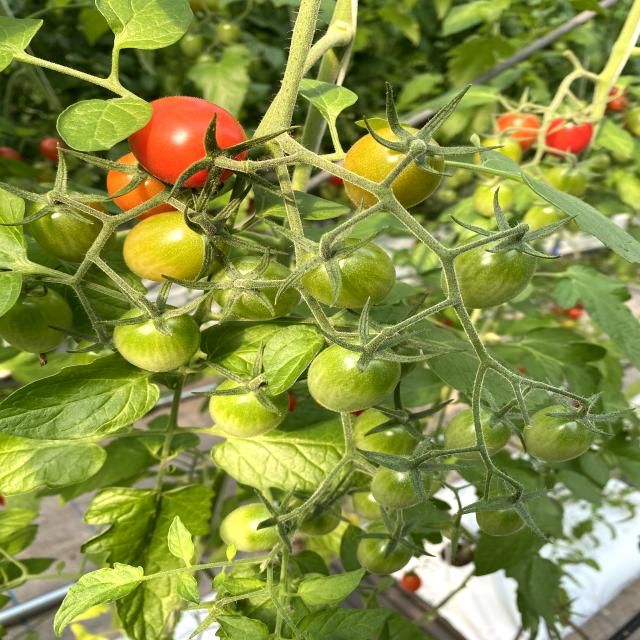ripe0: (342, 126, 446, 209), (307, 337, 403, 412), (299, 238, 396, 309), (114, 303, 201, 372)
ripe2: (132, 96, 247, 187)
